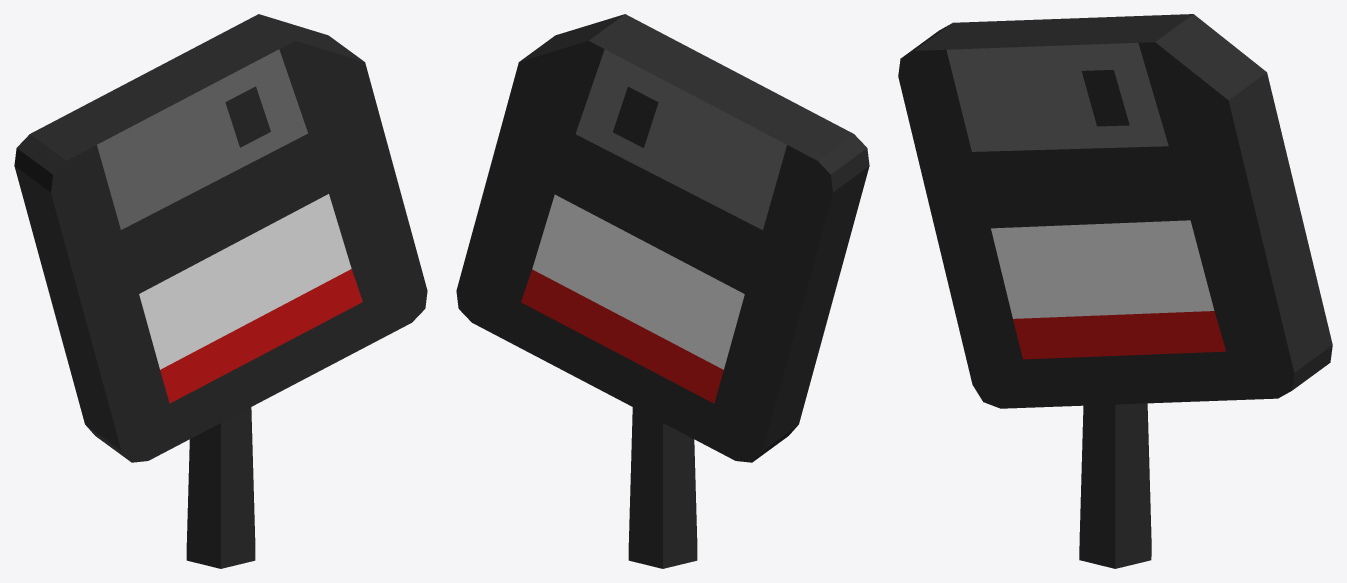
The model's file is floppyDisk.obj.
The picture shows the model from 3 angles, left to right: view 1: azimuth 30°, elevation 25°; view 2: azimuth 150°, elevation 25°; view 3: azimuth 330°, elevation 25°; orthographic projection. The views are drawn at different scales.
Parts seen in each view (by area): view 1: Cube; view 2: Cube; view 3: Cube.
Part boxes in pixels (box(x1,y1,x2,y2)): Cube: box(14, 14, 427, 568); Cube: box(456, 14, 869, 568); Cube: box(898, 14, 1332, 568).
Size of the model in its own units: 1.43 by 1.85 by 0.24.
